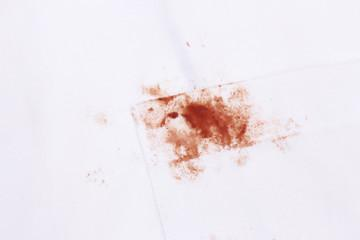gun: (129, 78, 307, 182), (84, 166, 106, 183), (90, 109, 108, 125), (183, 39, 191, 48)
